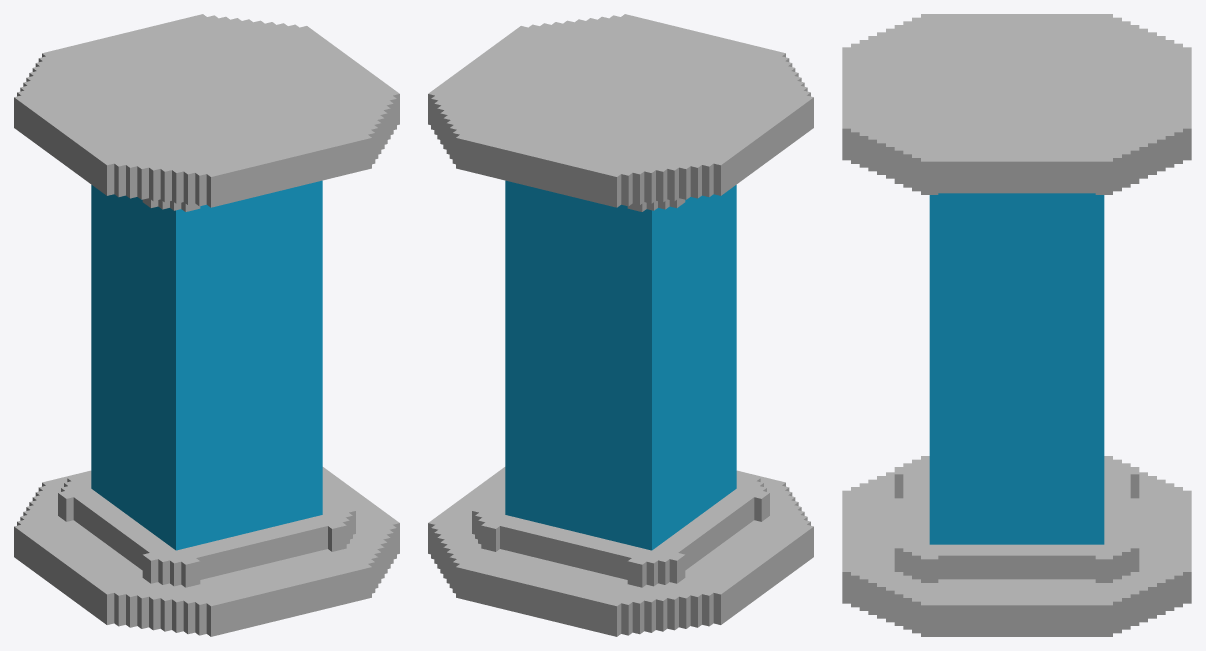
File: TestTube.obj
The picture shows the model from 3 angles, left to right: view 1: azimuth 30°, elevation 25°; view 2: azimuth 150°, elevation 25°; view 3: azimuth 270°, elevation 25°; orthographic projection. The views are drawn at different scales.
Bounding box in the file's own units: 4 × 6 × 4.
Materials: 1 (1 with a texture image).
